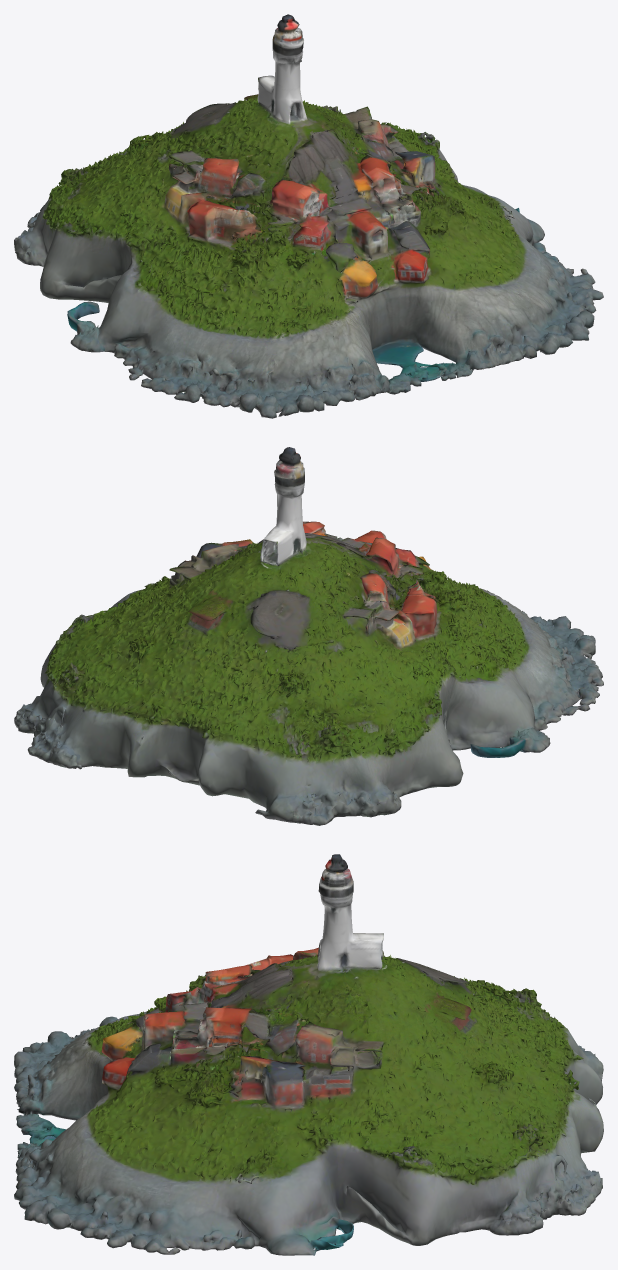
Rendered from island_1.glb.
The picture shows the model from 3 angles, top to bottom: view 1: azimuth 30°, elevation 25°; view 2: azimuth 150°, elevation 25°; view 3: azimuth 270°, elevation 25°; orthographic projection. The views are drawn at different scales.
Bounding box in the file's own units: 1.99 × 1.07 × 2.
1 material, 1 textured.
